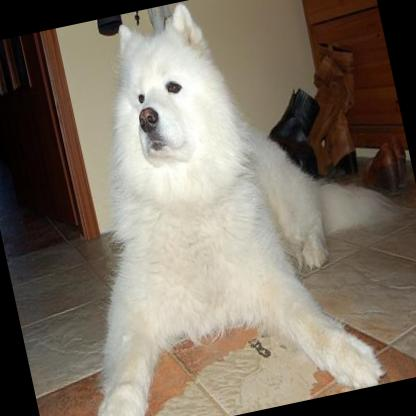Samoyed: (15, 0, 416, 416)
